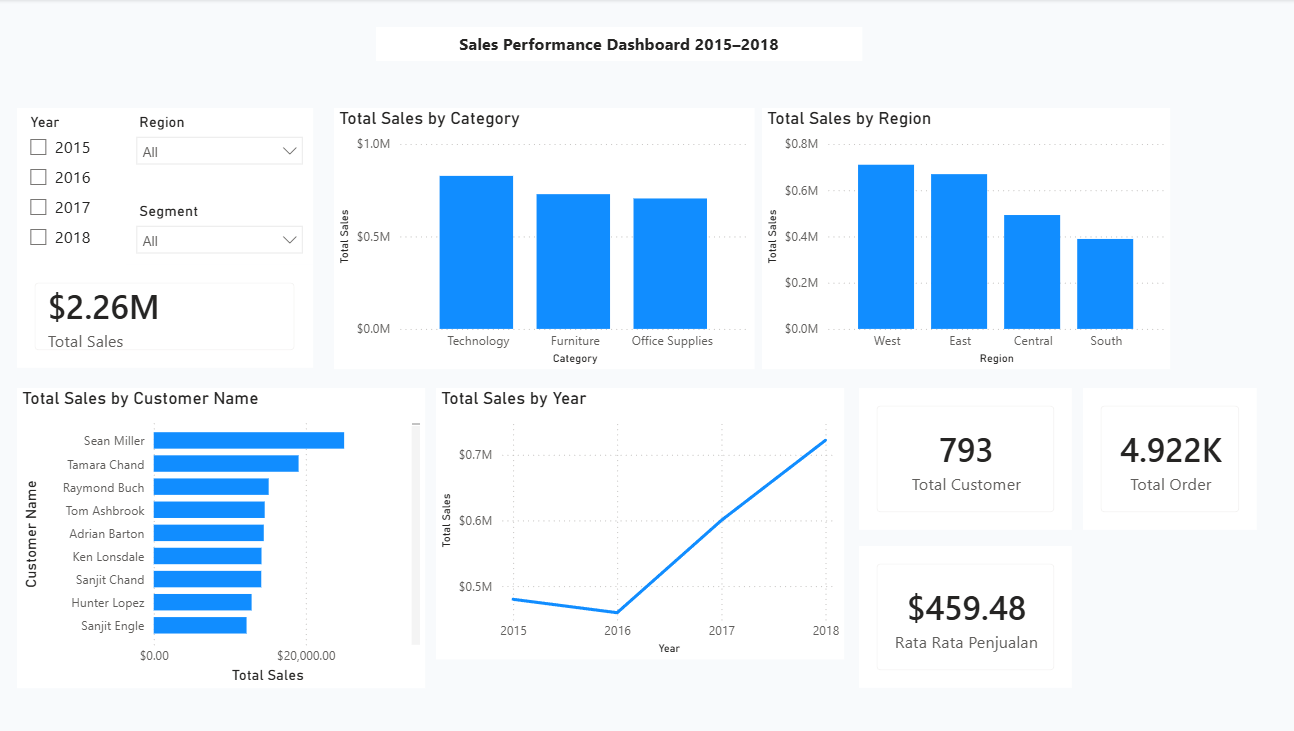

This screenshot's page, from the dashboard's own definition file:
{"tool":"powerbi","page":{"name":"Page 1","canvas":[1280,720],"ordinal":0},"visuals":[{"type":"cardVisual","fields":{"Data":["Superstore Sales Dataset.Total Sales"]},"box":[18.5,258.7,287.9,100.2],"z":0},{"type":"cardVisual","fields":{"Data":["Superstore Sales Dataset.Total Order"]},"box":[1055.3,378.4,169.2,138.1],"z":1000},{"type":"cardVisual","fields":{"Data":["Superstore Sales Dataset.Total Customer"]},"box":[837.4,378.4,207.2,138.1],"z":2000},{"type":"cardVisual","fields":{"Data":["Superstore Sales Dataset.Rata Rata Penjualan"]},"box":[837.4,532,207.2,138.1],"z":3000},{"type":"lineChart","fields":{"Category":["Superstore Sales Dataset.Order Date.Variation.Date Hierarchy.Year","Superstore Sales Dataset.Order Date.Variation.Date Hierarchy.Quarter","Superstore Sales Dataset.Order Date.Variation.Date Hierarchy.Month","Superstore Sales Dataset.Order Date.Variation.Date Hierarchy.Day"],"Y":["Superstore Sales Dataset.Total Sales"]},"box":[426,378.4,396.8,263.6],"z":4000},{"type":"columnChart","fields":{"Category":["Superstore Sales Dataset.Region"],"Y":["Superstore Sales Dataset.Total Sales"]},"box":[743.1,106,396.8,253.9],"z":5000},{"type":"columnChart","fields":{"Y":["Superstore Sales Dataset.Total Sales"],"Category":["Superstore Sales Dataset.Category"]},"box":[326.8,106,409.5,253.9],"z":6000},{"type":"clusteredBarChart","fields":{"Category":["Superstore Sales Dataset.Customer Name"],"Y":["Superstore Sales Dataset.Total Sales"]},"box":[18.5,378.4,396.8,291.8],"z":7000},{"type":"slicer","fields":{"Values":["Superstore Sales Dataset.Order Date.Variation.Date Hierarchy.Year"]},"box":[18.5,106,106,152.7],"z":8000},{"type":"slicer","fields":{"Values":["Superstore Sales Dataset.Region"]},"box":[124.5,106,181.9,86.6],"z":9000},{"type":"slicer","fields":{"Values":["Superstore Sales Dataset.Segment"]},"box":[124.5,192.6,181.9,66.1],"z":10000},{"type":"textbox","box":[367.7,27.2,472.7,33.1],"z":10001}]}

Visuals, with their boxes in screenshot pixels (x1, y1, x2, y2), scaled from the page's 1280x720 canvas onto the 1294x731 screenshot:
cardVisual - Superstore Sales Dataset.Total Sales: 19:263:310:364
cardVisual - Superstore Sales Dataset.Total Order: 1067:384:1238:524
cardVisual - Superstore Sales Dataset.Total Customer: 847:384:1056:524
cardVisual - Superstore Sales Dataset.Rata Rata Penjualan: 847:540:1056:680
lineChart - Superstore Sales Dataset.Order Date.Variation.Date Hierarchy.Year x Superstore Sales Dataset.Order Date.Variation.Date Hierarchy.Quarter: 431:384:832:652
columnChart - Superstore Sales Dataset.Region x Superstore Sales Dataset.Total Sales: 751:108:1152:365
columnChart - Superstore Sales Dataset.Total Sales x Superstore Sales Dataset.Category: 330:108:744:365
clusteredBarChart - Superstore Sales Dataset.Customer Name x Superstore Sales Dataset.Total Sales: 19:384:420:680
slicer - Superstore Sales Dataset.Order Date.Variation.Date Hierarchy.Year: 19:108:126:263
slicer - Superstore Sales Dataset.Region: 126:108:310:196
slicer - Superstore Sales Dataset.Segment: 126:196:310:263
textbox: 372:28:850:61
